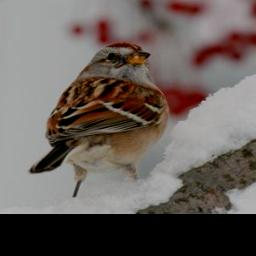Sparrow: (29, 41, 172, 199)
